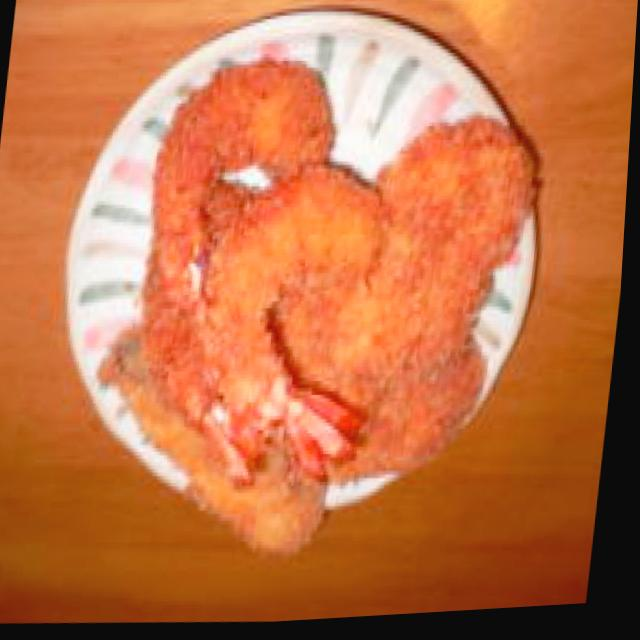炸货点心: (110, 38, 422, 520)
熟制海鲜: (110, 38, 422, 520)
